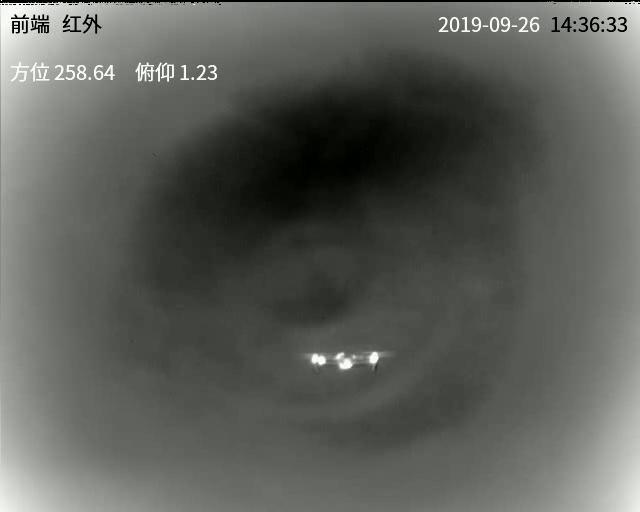DRONE: (309, 349, 380, 374)
